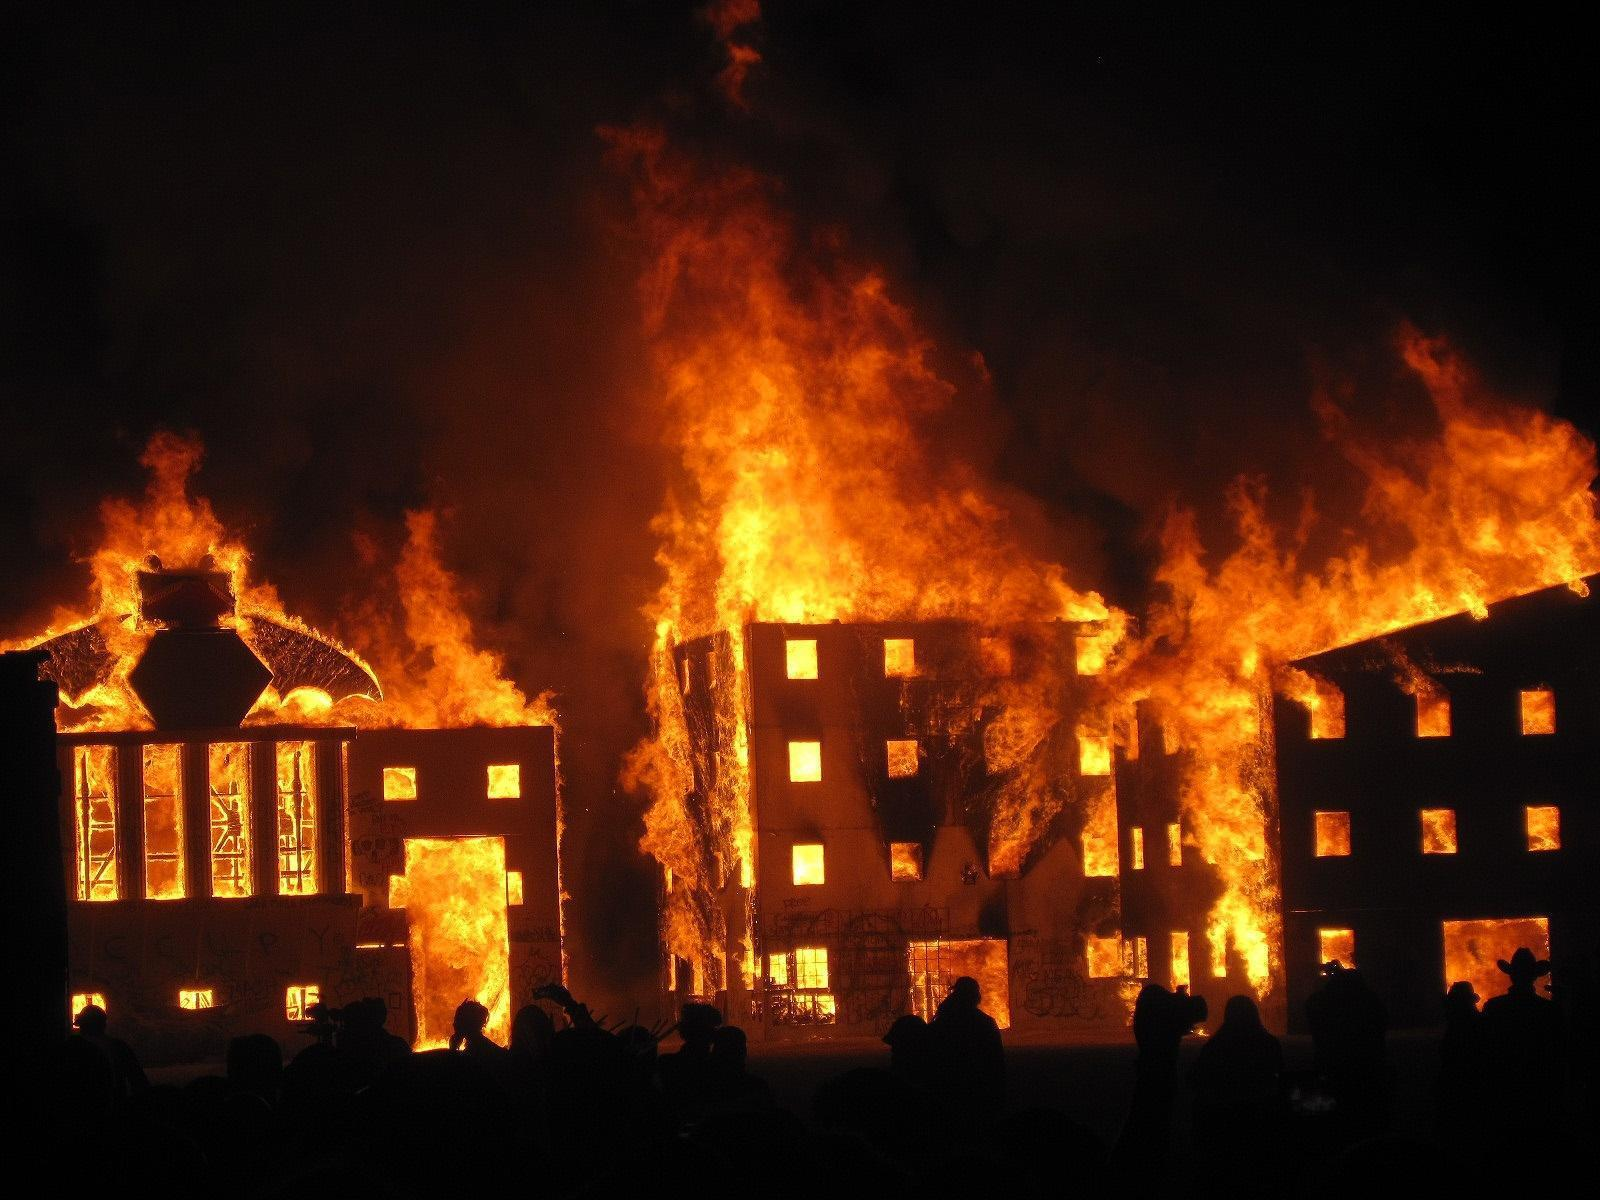fire: (588, 91, 1218, 1044), (43, 290, 591, 1062), (1168, 239, 1576, 1021)
